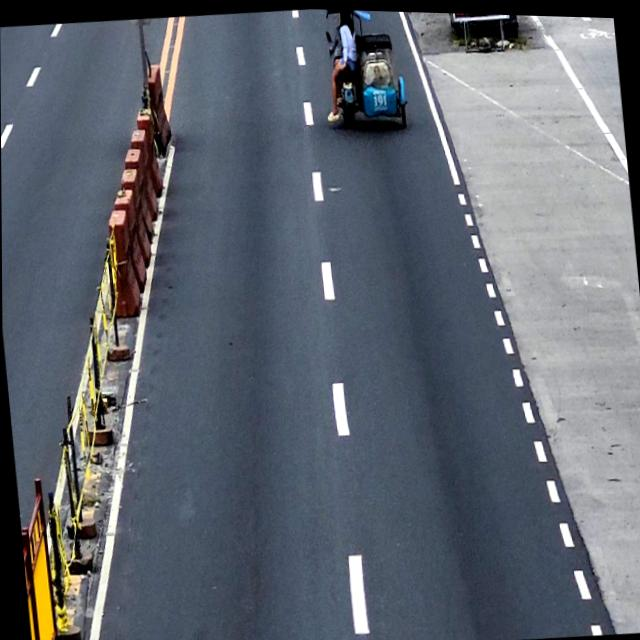License-Plate: (342, 78, 353, 88)
Tricycle: (323, 8, 409, 131)
